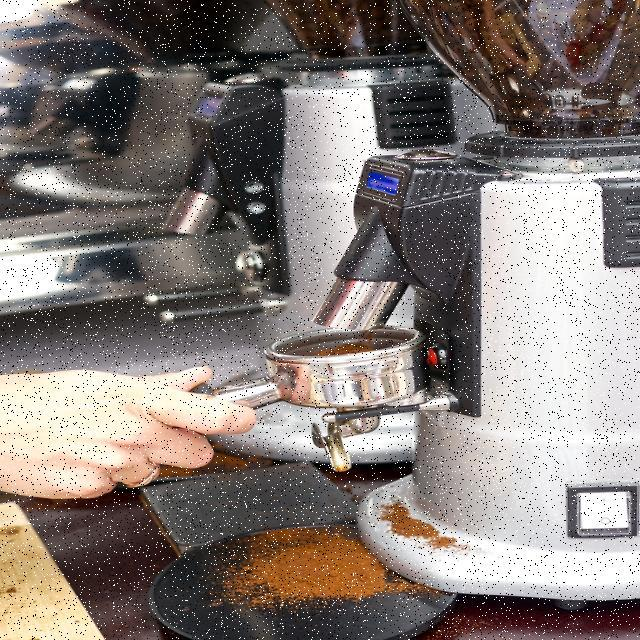Coffee-Machine: (250, 116, 640, 608)
